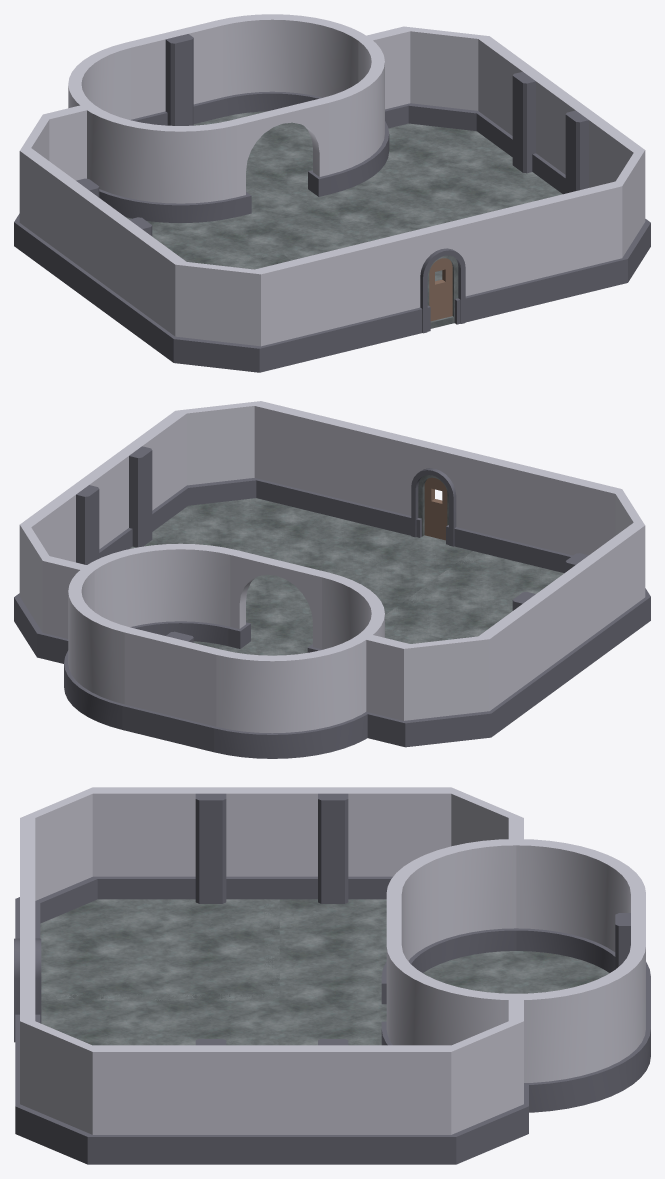
The model's file is room_sm_04.fbx.
3 views of the same model, one above another, from view 1: azimuth 30°, elevation 25°; view 2: azimuth 150°, elevation 25°; view 3: azimuth 270°, elevation 25° (orthographic). The views are drawn at different scales.
Visible parts, largest first — view 1: corner_02_7, corner_03_12, floor_02_4, corner_02_9, corner_03_14, wall_01_21, wall_01_22, door_01_23, wall_02_16, corner_02_10, floor_04_3, corner_03_11 (+12 smaller); view 2: corner_03_13, corner_02_8, corner_02_10, corner_03_11, floor_02_1, wall_02_16, wall_01_21, wall_01_22, door_01_23, floor_02_0, corner_03_14, corner_02_9 (+11 smaller); view 3: floor_02_0, corner_02_10, corner_02_9, corner_03_14, wall_02_17, wall_02_18, wall_02_19, floor_02_5, wall_02_20, corner_02_7, corner_03_12, corner_03_13 (+10 smaller).
Part boxes in pixels (x1,y1,x2,y2): corner_02_7: (146,242,307,372); corner_03_12: (85,104,238,222); floor_02_4: (273,123,548,224); corner_02_9: (359,26,514,147); corner_03_14: (214,14,369,116); wall_01_21: (480,192,582,316); wall_01_22: (296,236,398,361); door_01_23: (387,214,489,338); wall_02_16: (124,20,224,125); corner_02_10: (570,131,650,294); floor_04_3: (235,149,383,252); corner_03_11: (320,37,389,193); corner_03_13: (213,633,369,758); corner_02_8: (359,618,518,747); corner_02_10: (151,401,305,521); corner_03_11: (84,543,237,645); floor_02_1: (129,498,392,605); wall_02_16: (122,627,221,752); wall_01_21: (295,411,397,529); wall_01_22: (478,456,580,573); door_01_23: (386,434,489,552); floor_02_0: (385,551,563,639); corner_03_14: (64,566,133,729); corner_02_9: (14,505,93,663); floor_02_0: (40,899,279,1000); corner_02_10: (15,994,156,1164); corner_02_9: (387,994,528,1164); corner_03_14: (516,942,650,1112); wall_02_17: (264,1039,400,1164); wall_02_18: (143,1039,277,1164); wall_02_19: (143,787,278,903); floor_02_5: (264,899,523,1000); wall_02_20: (266,787,400,903); corner_02_7: (15,787,156,926); corner_03_12: (381,839,523,978); corner_03_13: (509,839,650,977).
Bounding box in the file's own units: 52.05 × 10 × 52.15.
